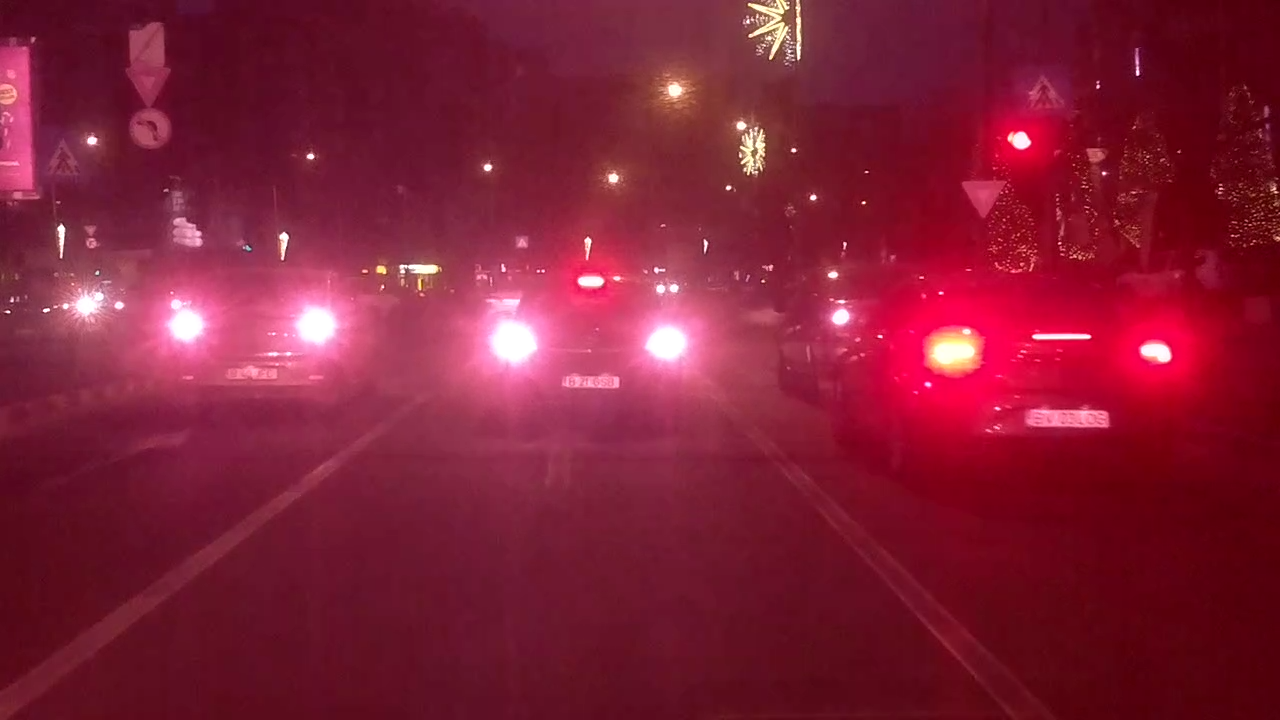license-plate: (556, 373, 622, 389)
